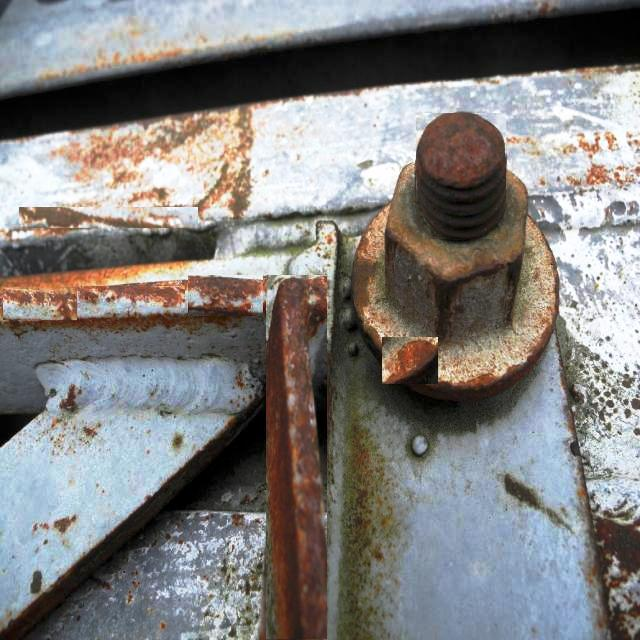Corrosion: (267, 277, 327, 640), (416, 113, 506, 241), (76, 276, 262, 311), (427, 370, 514, 402), (0, 270, 110, 292), (4, 288, 76, 316), (352, 245, 377, 316), (494, 360, 538, 394), (399, 341, 436, 378), (522, 327, 554, 368), (409, 354, 439, 385), (546, 276, 560, 336)
